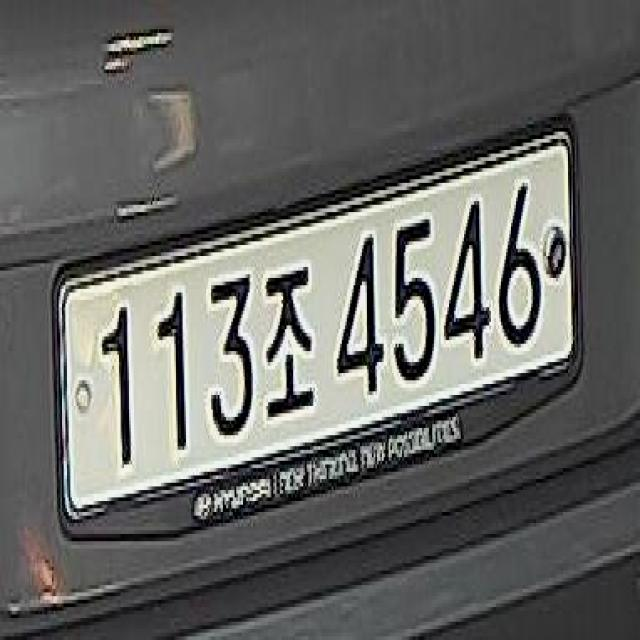illegal_plate: (48, 134, 586, 545)
